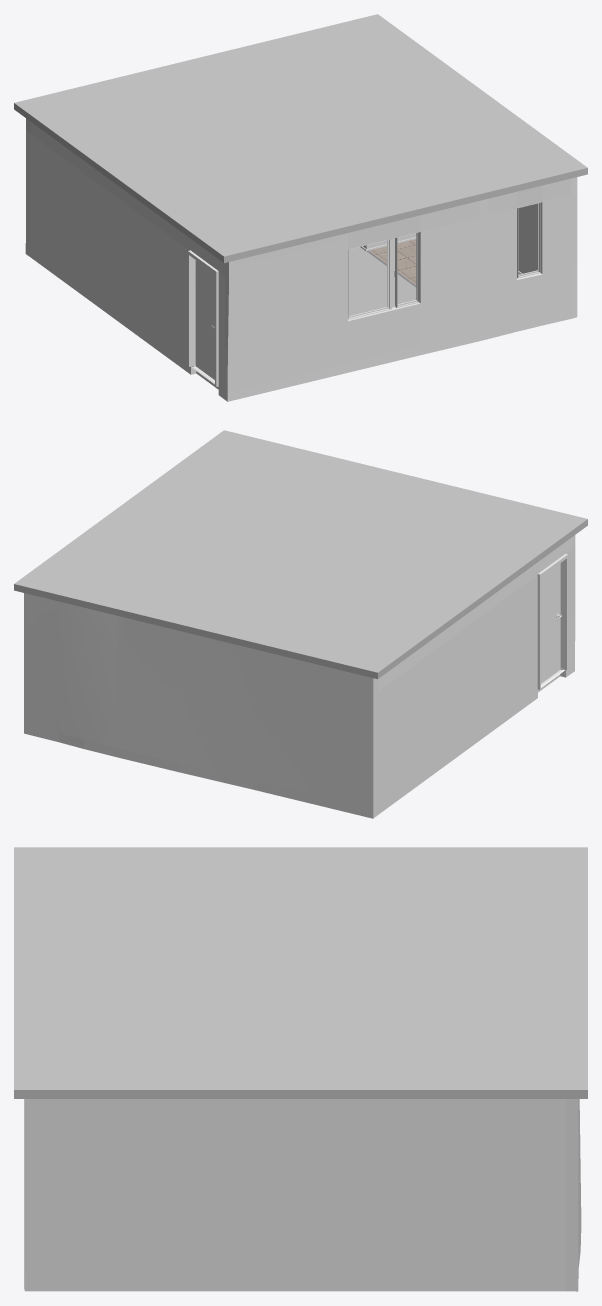
Rendered from Keycko_Room.fbx.
3 views of the same model, one above another, from view 1: azimuth 30°, elevation 25°; view 2: azimuth 150°, elevation 25°; view 3: azimuth 270°, elevation 25° (orthographic). The views are drawn at different scales.
Parts seen in each view (by area): view 1: Ceiling, Wall1, Door2, Oviaukko1, BigWindow, SmallWindow; view 2: Ceiling, Wall1, Door2, Oviaukko1; view 3: Ceiling, Wall1.
Boxes of the visible parts, x1,y1,x2,y2 form: Ceiling: [14, 14, 587, 262]; Wall1: [25, 118, 577, 401]; Door2: [195, 260, 214, 379]; Oviaukko1: [188, 250, 218, 386]; BigWindow: [348, 232, 418, 319]; SmallWindow: [517, 203, 540, 278]; Ceiling: [14, 430, 587, 679]; Wall1: [24, 535, 575, 818]; Door2: [541, 563, 560, 683]; Oviaukko1: [537, 554, 567, 689]; Ceiling: [14, 847, 587, 1098]; Wall1: [24, 1099, 581, 1291].
Bounding box in the file's own units: 843 × 333 × 843.
